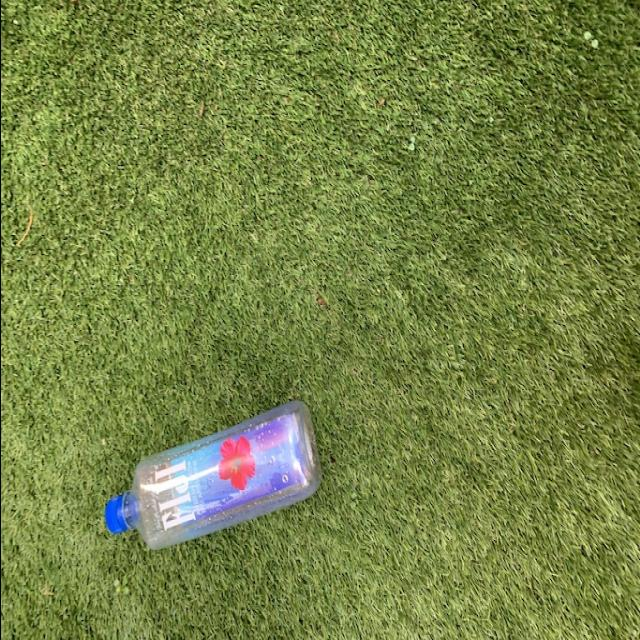litter: (102, 396, 320, 555)
